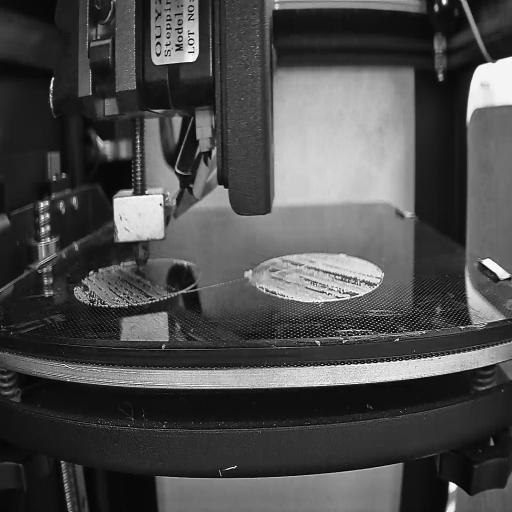under_extrusion: (256, 259, 385, 300), (75, 263, 171, 307)
